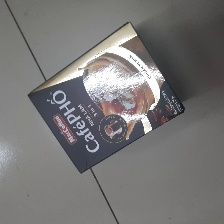CF pho: (26, 22, 186, 177)
